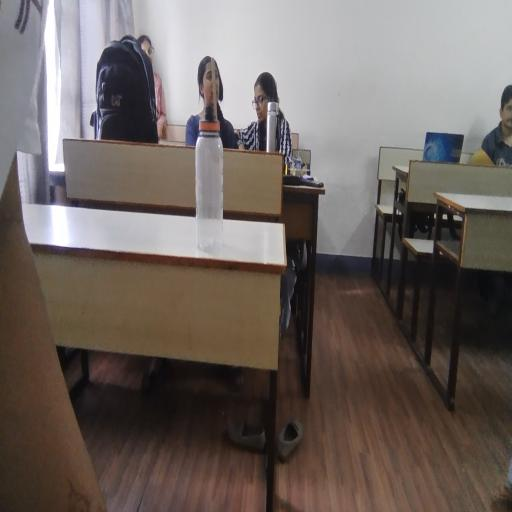Bottle: (188, 103, 239, 256)
